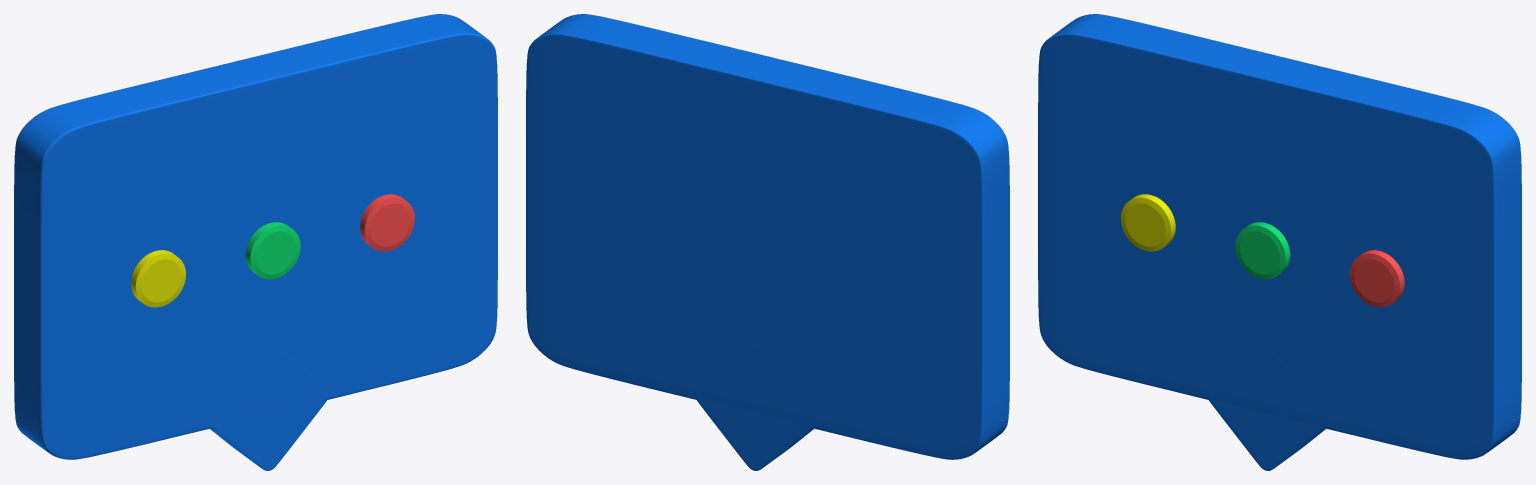
The model's file is chatIcon-transformed.glb.
3 views of the same model, side by side, from view 1: azimuth 30°, elevation 25°; view 2: azimuth 150°, elevation 25°; view 3: azimuth 330°, elevation 25° (orthographic).
Visible parts, largest first — view 1: Object_5, Object_10, Object_12, Object_14; view 2: Object_5; view 3: Object_5, Object_10, Object_12, Object_14.
Boxes of the visible parts, <box> form: Object_5: <box>14,14,497,470</box>; Object_10: <box>360,194,414,251</box>; Object_12: <box>245,222,300,279</box>; Object_14: <box>131,250,185,307</box>; Object_5: <box>526,14,1009,470</box>; Object_5: <box>1038,14,1521,470</box>; Object_10: <box>1349,250,1404,307</box>; Object_12: <box>1235,222,1290,279</box>; Object_14: <box>1121,194,1175,251</box>.
Size of the model in its own units: 0.2004 by 0.1637 by 0.0257.
